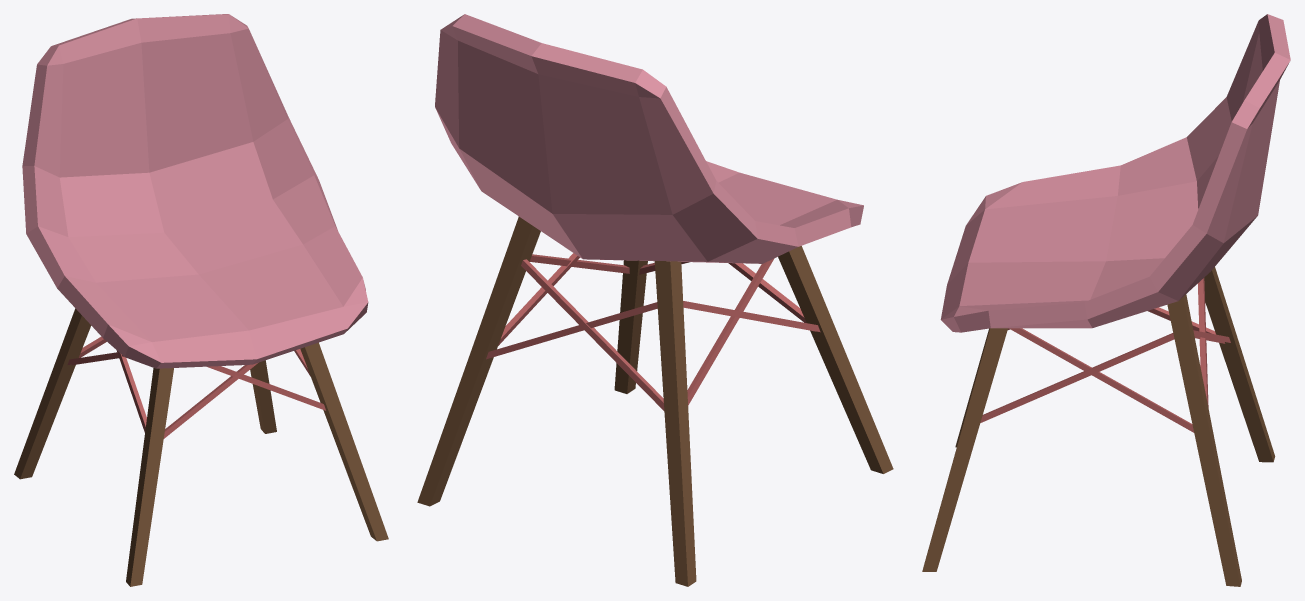
File: Chair_5.fbx
The picture shows the model from 3 angles, left to right: view 1: azimuth 30°, elevation 25°; view 2: azimuth 150°, elevation 25°; view 3: azimuth 270°, elevation 25°; orthographic projection. The views are drawn at different scales.
Parts seen in each view (by area): view 1: Chair_5; view 2: Chair_5; view 3: Chair_5.
Part boxes in pixels (bbox=[...]): Chair_5: bbox=[14, 14, 388, 586]; Chair_5: bbox=[417, 14, 893, 586]; Chair_5: bbox=[922, 14, 1290, 586].
Size of the model in its own units: 94.59 by 97.82 by 138.
